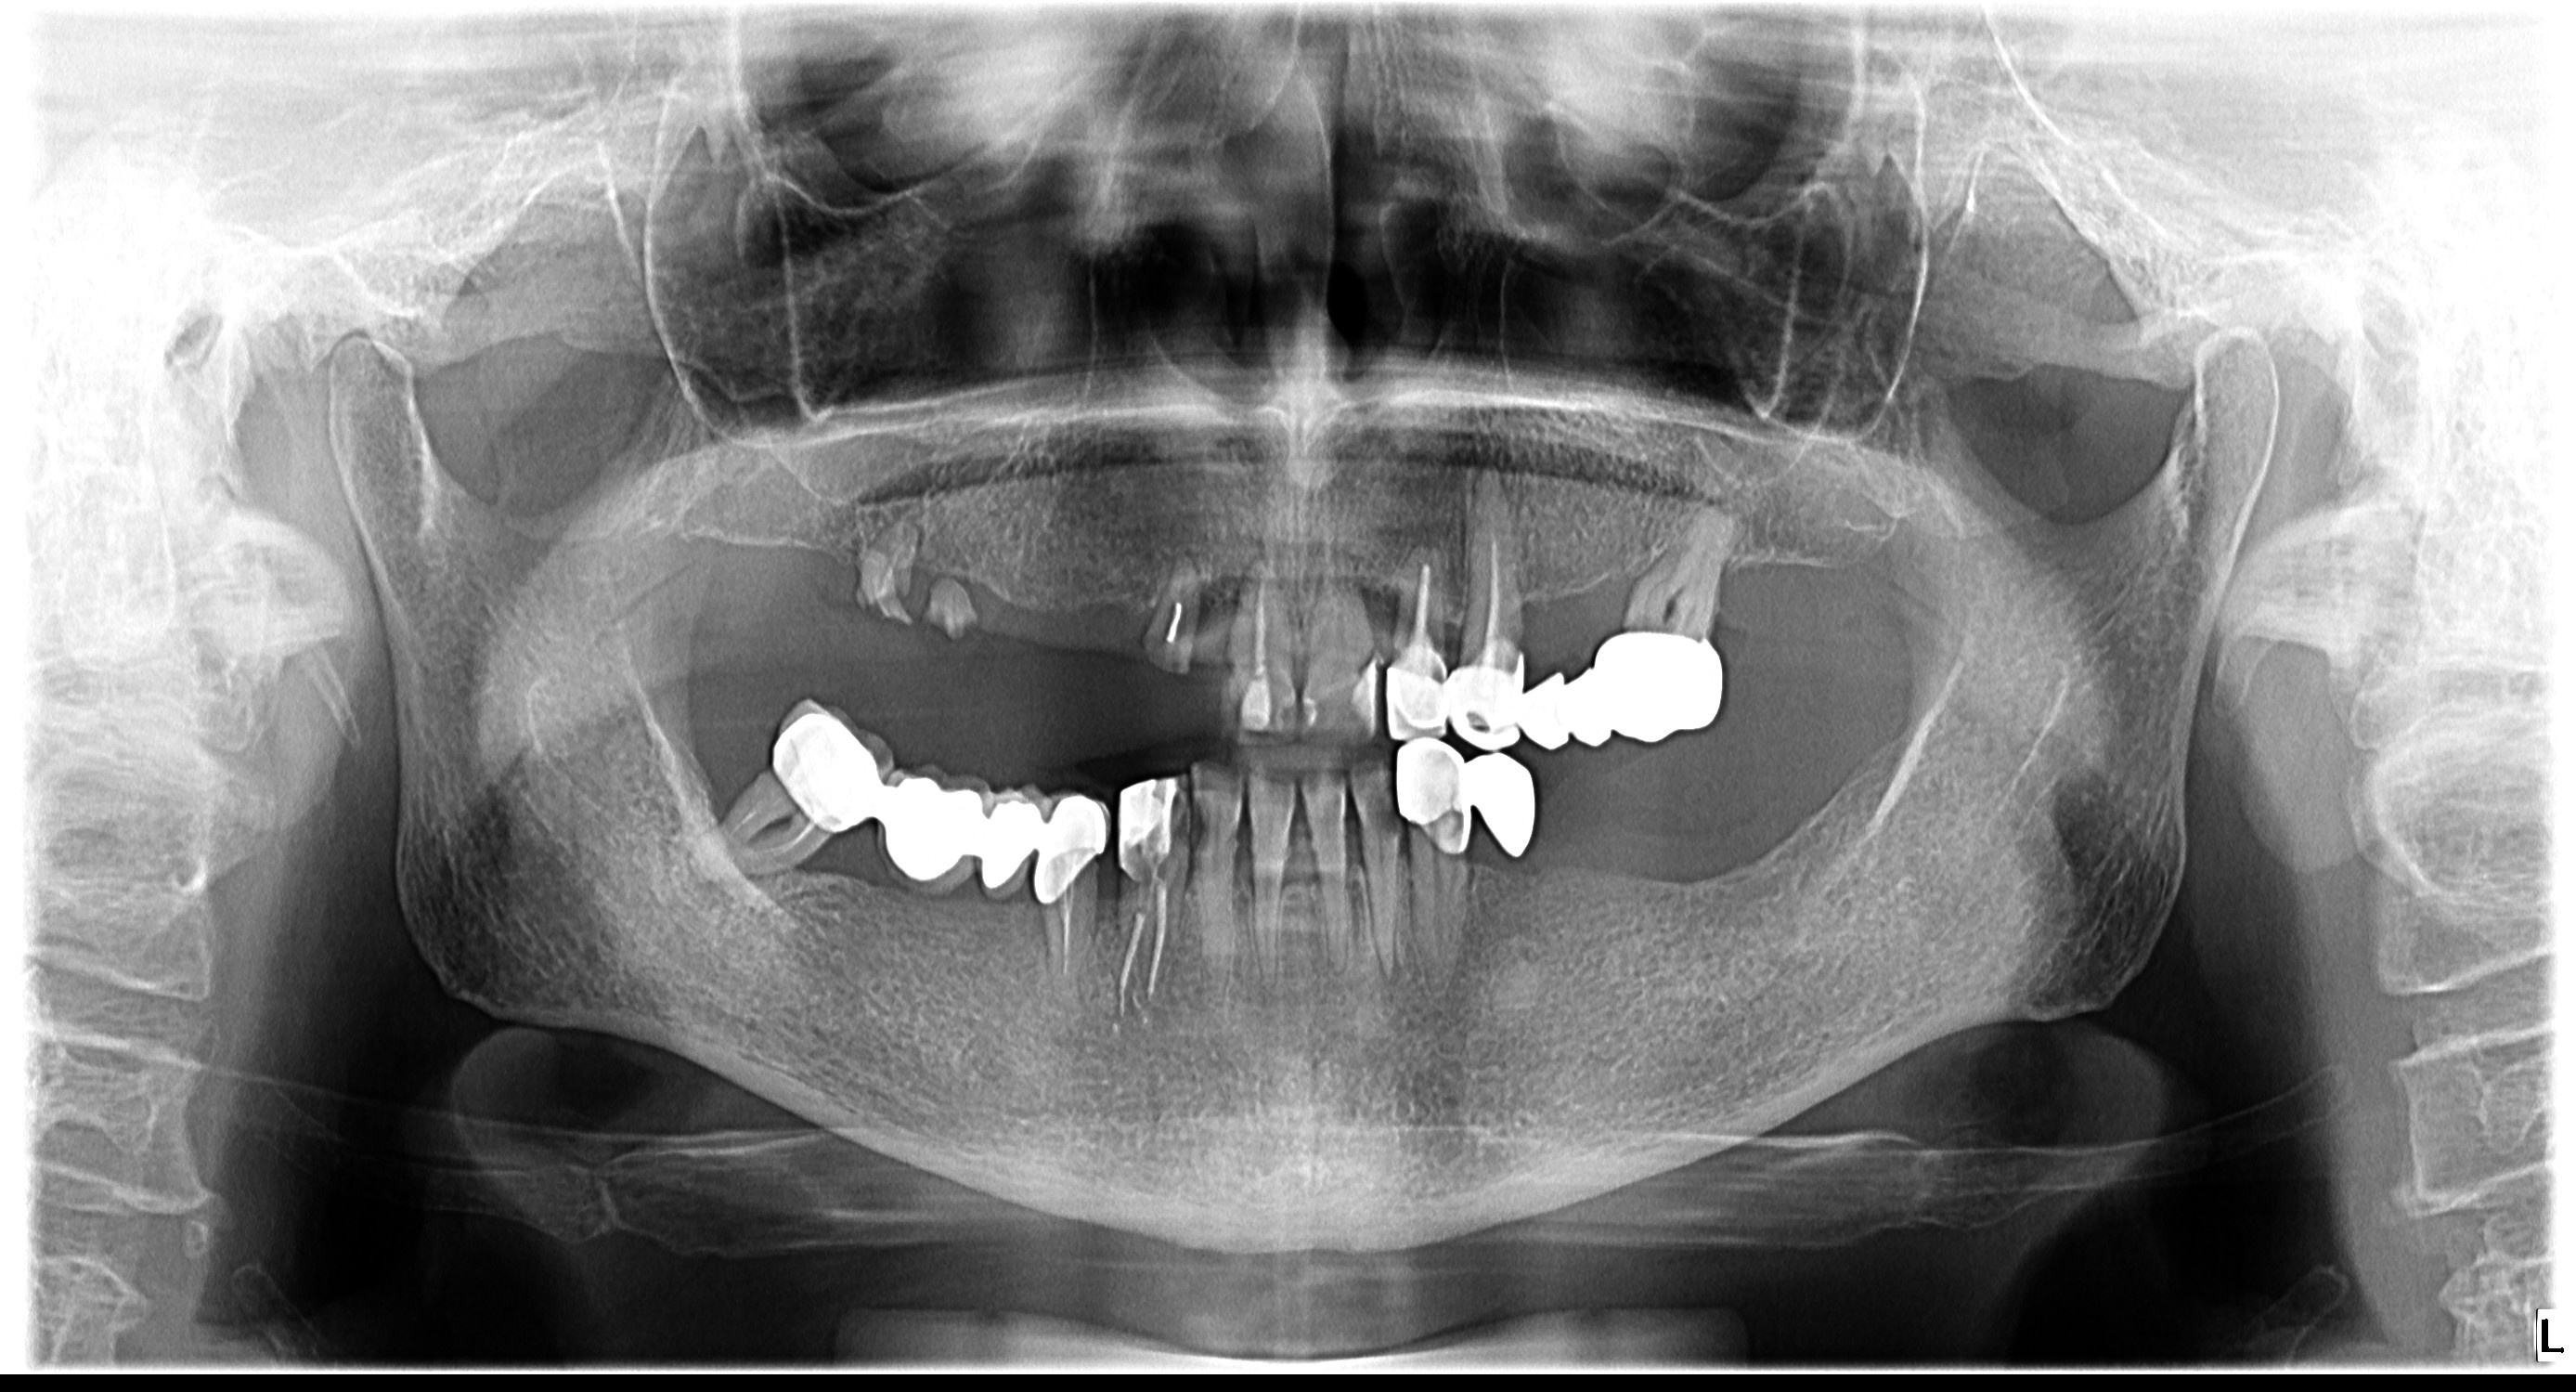CAR: (641, 336, 2062, 1181), (565, 372, 1797, 1224), (517, 393, 1632, 1269), (651, 295, 2045, 972), (584, 303, 1834, 994)
END: (514, 351, 1699, 1392), (500, 387, 1584, 1383), (721, 178, 2232, 837), (680, 225, 2122, 871), (613, 223, 1884, 891), (567, 266, 1759, 919)
FUR: (807, 252, 2507, 886), (339, 375, 1144, 1238)
OBT: (509, 327, 1704, 1203), (653, 281, 2036, 1017), (630, 317, 1953, 1058), (594, 298, 1874, 1039)
PRR: (605, 288, 2162, 1171), (497, 231, 2242, 979), (192, 228, 1312, 1145)
ROT: (413, 237, 1411, 883), (373, 192, 1322, 807), (382, 206, 1293, 833)
